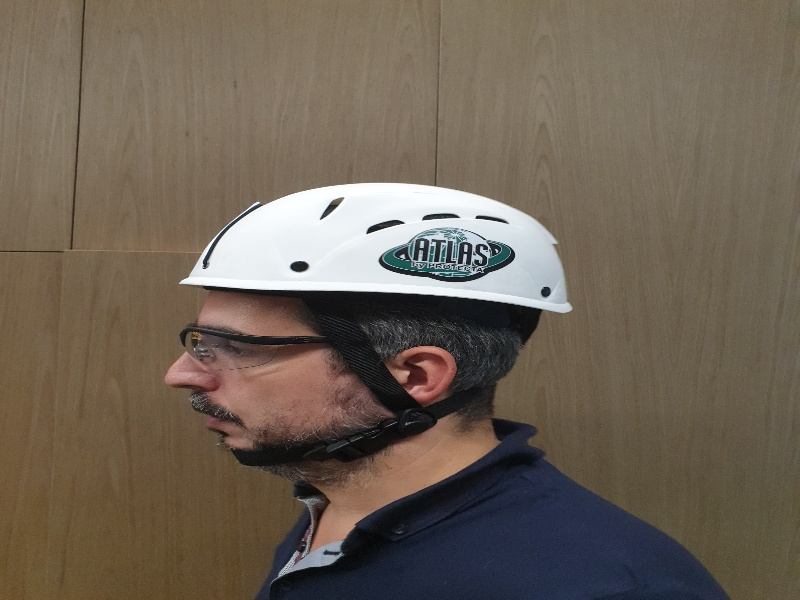Baret: (181, 183, 573, 312)
Gozluk: (179, 325, 372, 369)
